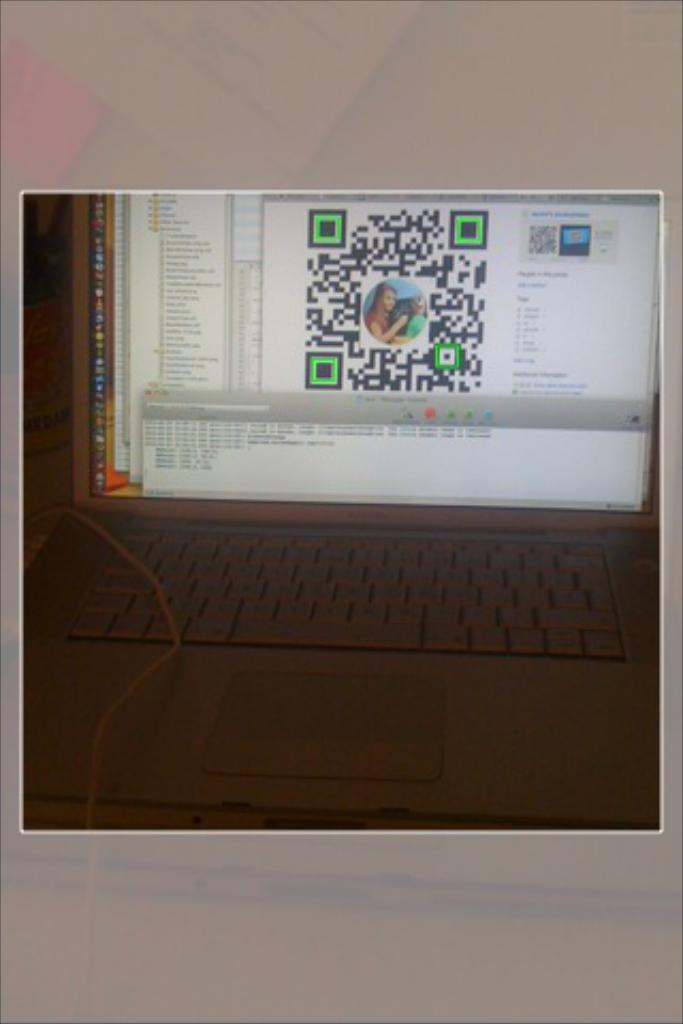Laptop: (34, 177, 683, 875)
